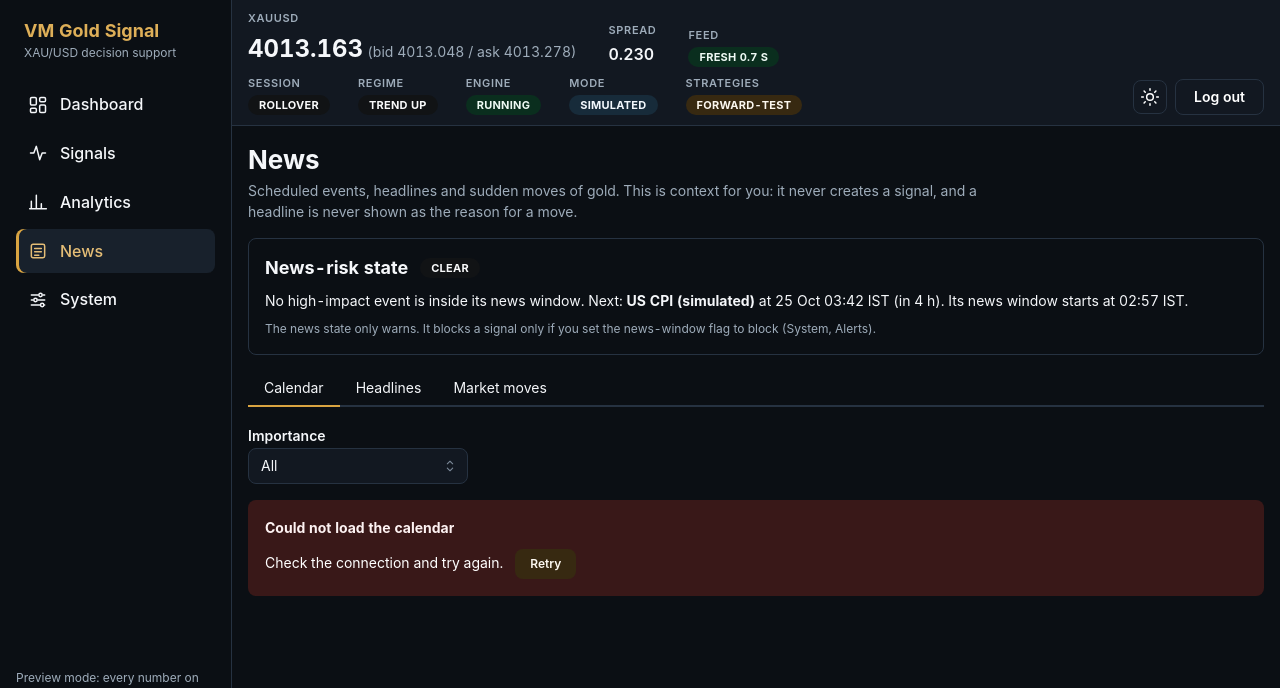
Test case: the calendar › shows the error of the calendar with a retry button, and the rest of the page stays
Expected: the message shows "Could not load the calendar", [265,519,454,536]
Expected: the element with test id "news-state" is shown, [248,238,1264,355]
Click the button "Retry" at (546, 564), box [515,549,576,579]
(page scrolled)
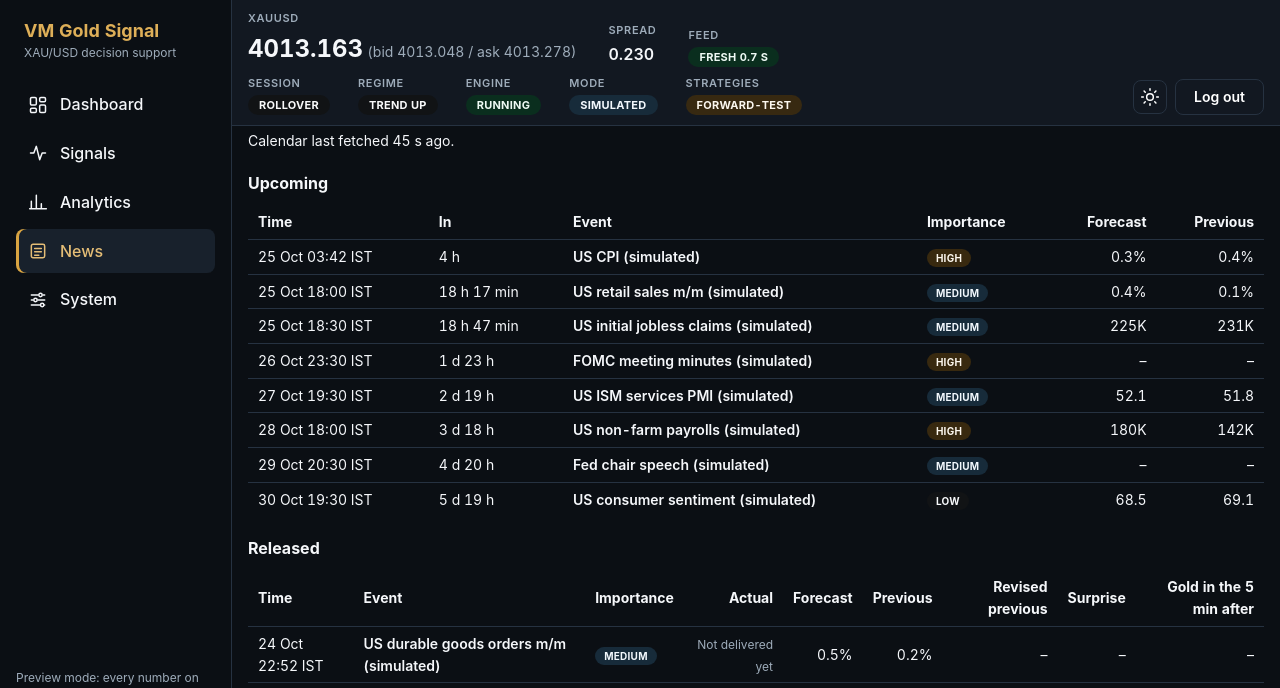
Result: the table with test id "news-upcoming" is shown at [248,205,1264,516]
Result: the message "Could not load the calendar Check the connection and try again. Retry" is gone
